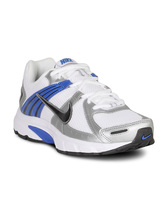shoes: (15, 57, 158, 155)
